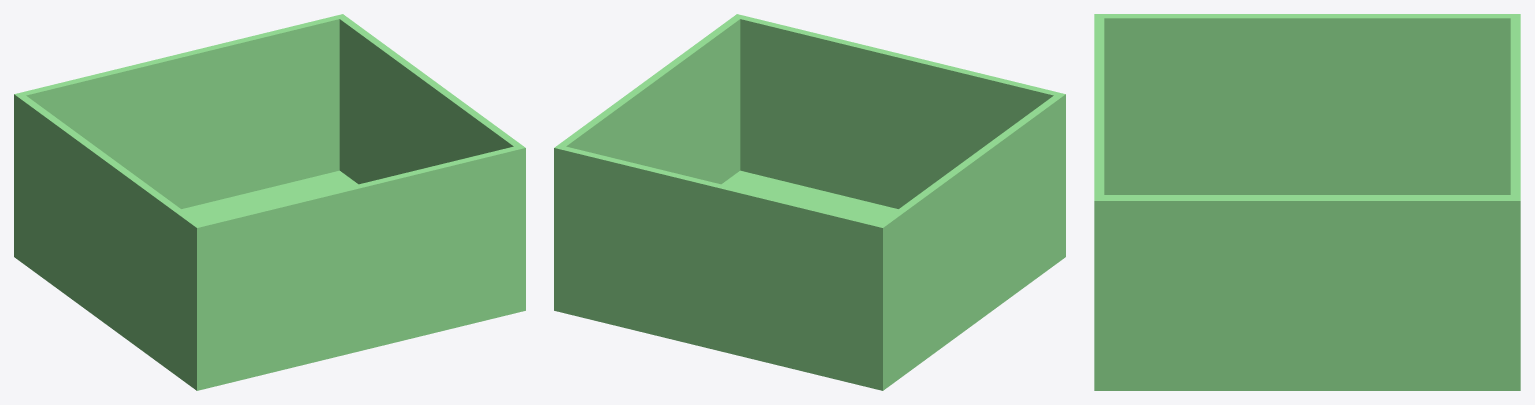
The picture shows the model from 3 angles, left to right: view 1: azimuth 30°, elevation 25°; view 2: azimuth 150°, elevation 25°; view 3: azimuth 270°, elevation 25°; orthographic projection. The views are drawn at different scales.
Parts seen in each view (by area): view 1: Box_002; view 2: Box_002; view 3: Box_002.
Boxes of the visible parts, x1,y1,x2,y2 form: Box_002: [14, 14, 525, 390]; Box_002: [554, 14, 1065, 390]; Box_002: [1094, 14, 1520, 390].
Bounding box in the file's own units: 43.53 × 20.6 × 41.93.
